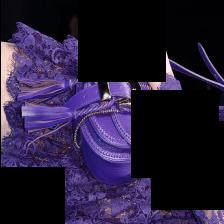purple: (16, 47, 174, 185)
